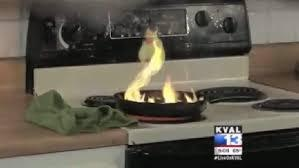fire: (123, 27, 171, 104)
